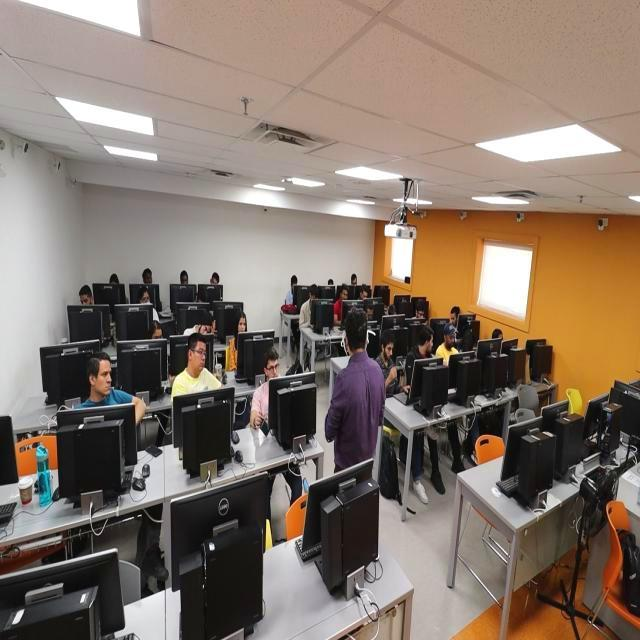Looking away: (380, 339, 395, 362), (420, 330, 434, 354), (197, 320, 214, 338), (443, 330, 456, 350), (451, 305, 462, 328)
Looking forward: (91, 358, 113, 396), (189, 340, 208, 372), (265, 352, 280, 382), (236, 316, 248, 336)
